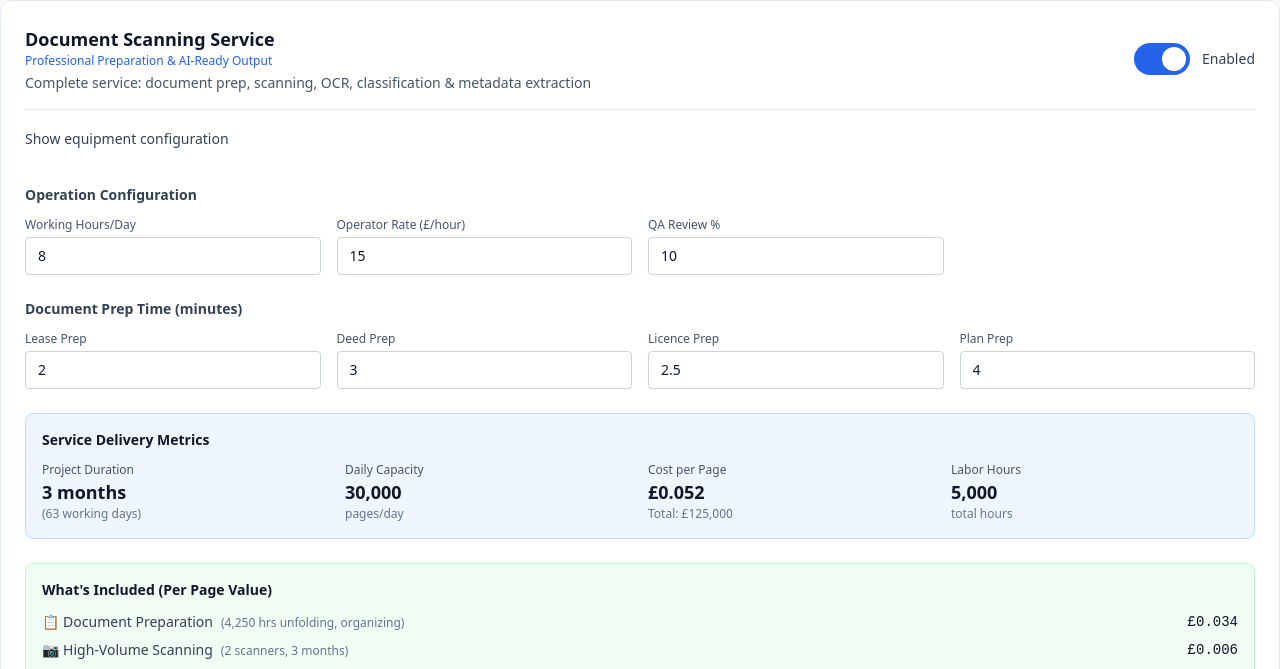
Test case: ScanningConfiguration - Equipment Configuration Expandable › should hide equipment configuration when toggle is clicked again
Note: Show equipment config
Click the button "Show equipment configuration". click: (127, 139)
box: [25,129,229,149]
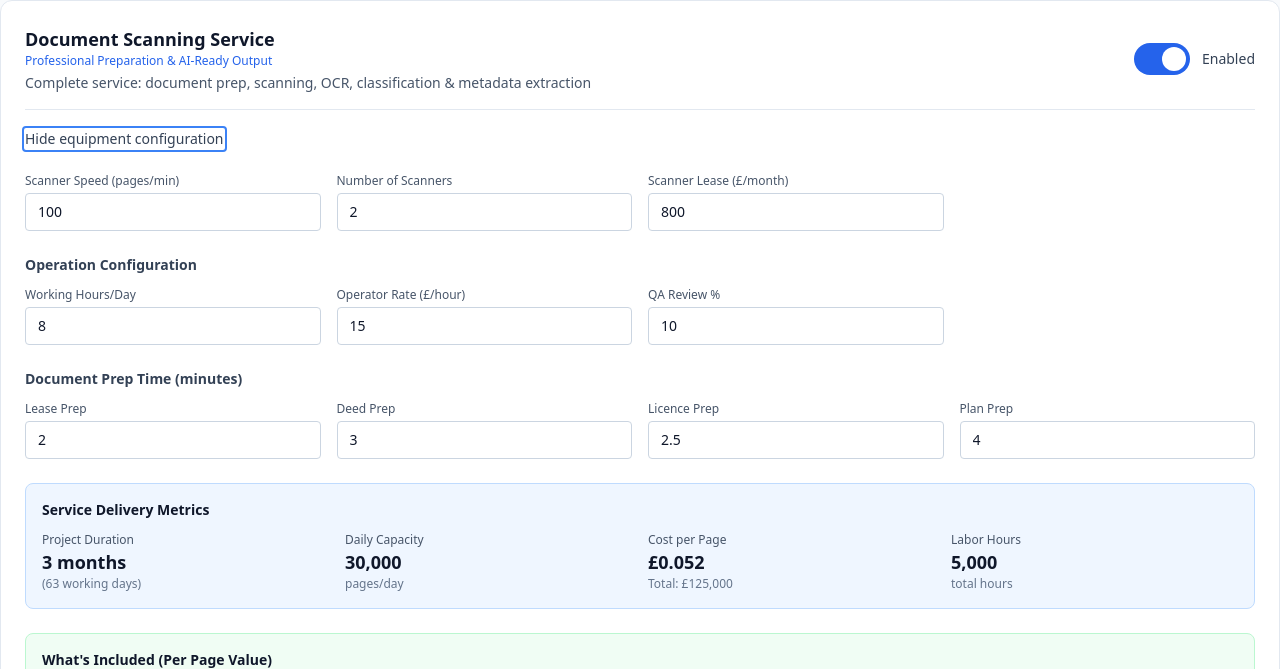
Note: Hide equipment config
Click the button "Hide equipment configuration". click: (124, 139)
box: [25,129,224,149]
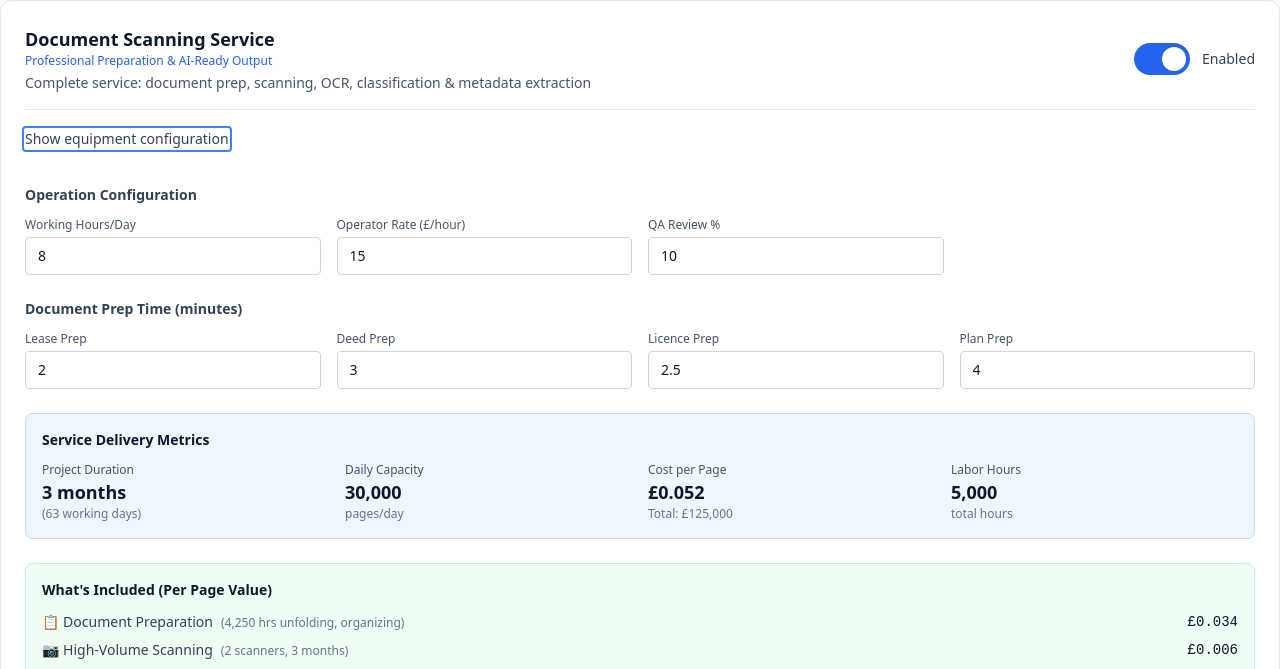
Check: the field showing "100" is not shown
Check: the button "Show equipment configuration" is shown, box [25,129,229,149]
